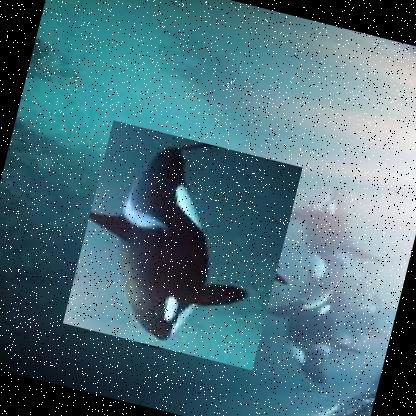killer_whale: (62, 120, 303, 370)
